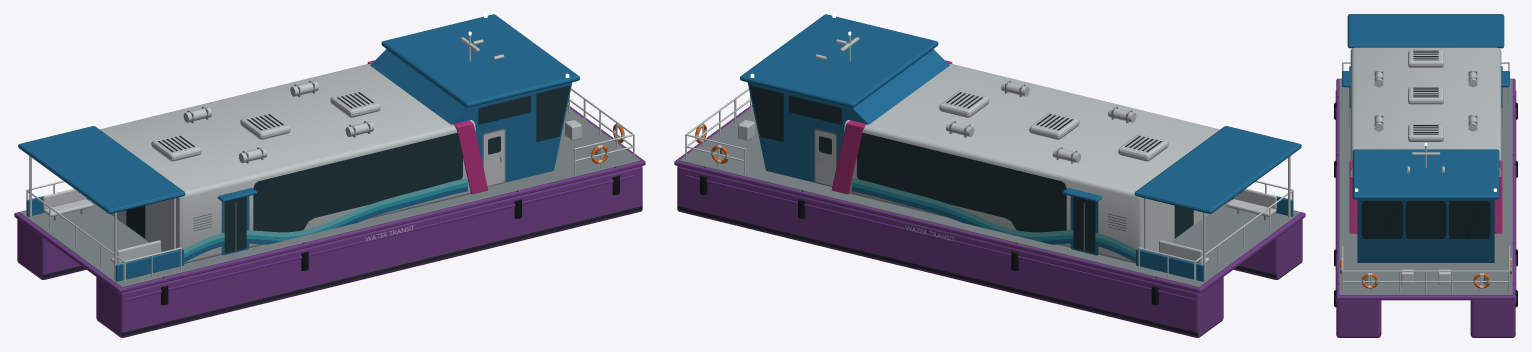
File: water_transit_ferry.glb
The picture shows the model from 3 angles, left to right: view 1: azimuth 30°, elevation 25°; view 2: azimuth 150°, elevation 25°; view 3: azimuth 270°, elevation 25°; orthographic projection. The views are drawn at different scales.
Parts seen in each view (by area): view 1: WaterTransitFerry_Geometry; view 2: WaterTransitFerry_Geometry; view 3: WaterTransitFerry_Geometry.
Part boxes in pixels (x1=…): WaterTransitFerry_Geometry: x1=14, y1=14, x2=645, y2=337; WaterTransitFerry_Geometry: x1=674, y1=14, x2=1305, y2=337; WaterTransitFerry_Geometry: x1=1334, y1=14, x2=1517, y2=337.
Size of the model in its own units: 23.86 by 7.35 by 8.42.
